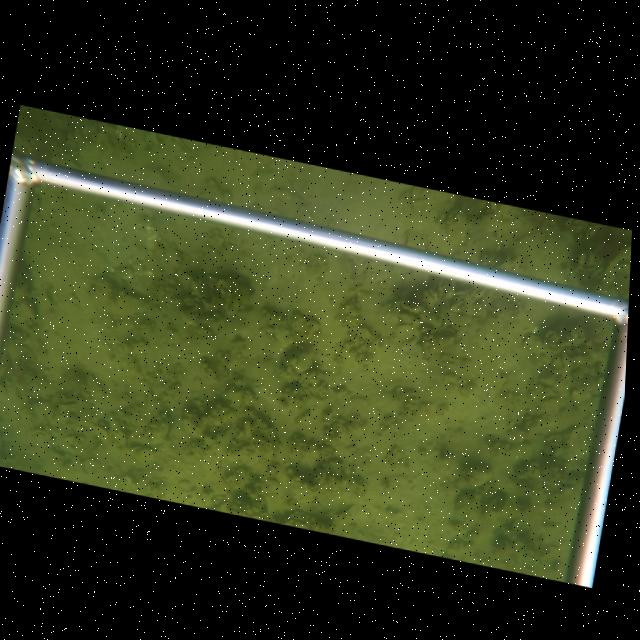Oyster-Closed: (289, 313, 324, 343), (398, 311, 415, 324)
Oyster-Indeterminate: (8, 301, 34, 322)
Oyster-Open: (460, 465, 493, 489), (93, 421, 110, 441)
